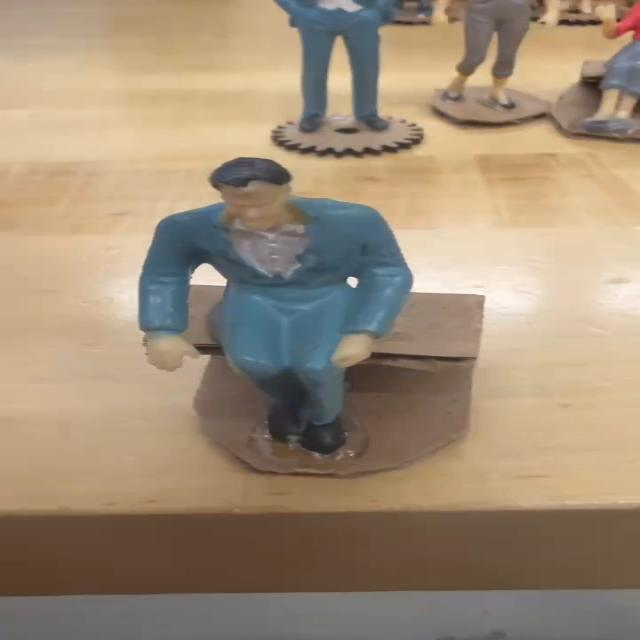Authorized: (137, 158, 416, 466)
